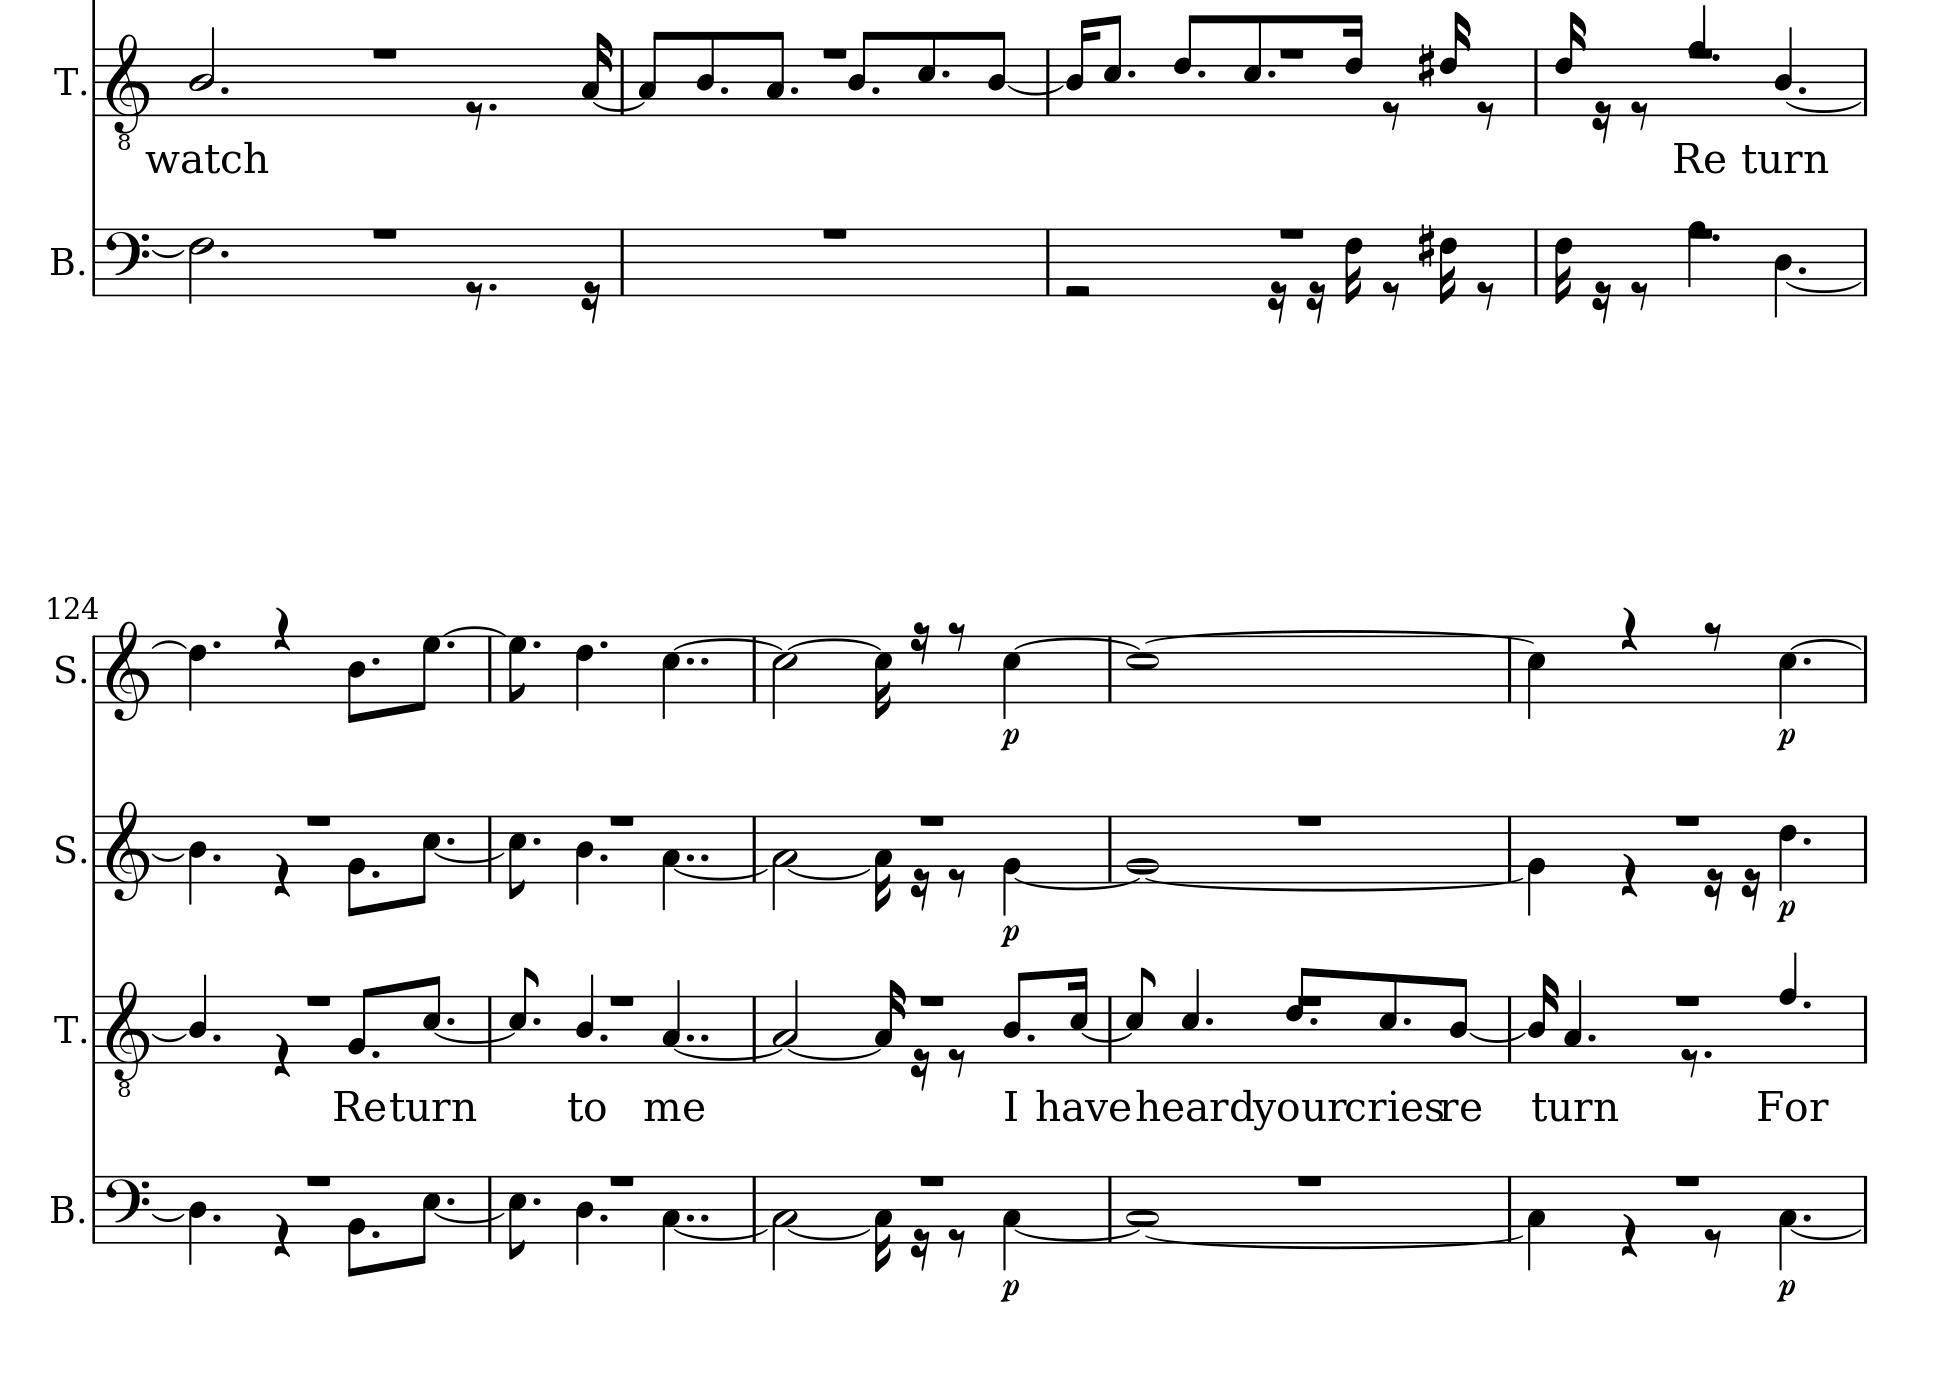1: (46, 595, 60, 621)
16_3: (579, 31, 612, 117), (873, 978, 904, 1063), (870, 1171, 892, 1273), (871, 813, 892, 913)
16_4: (1065, 15, 1099, 117), (1525, 972, 1558, 1065)
16_5: (1065, 964, 1089, 1066), (873, 633, 894, 718)
16_6: (1437, 10, 1471, 118), (1552, 10, 1587, 118), (1341, 10, 1365, 117), (1342, 223, 1365, 303), (1551, 225, 1573, 304), (1437, 226, 1458, 304)
1_2: (1125, 811, 1161, 885)
1_3: (1125, 1171, 1159, 1246)
1_5: (1126, 631, 1161, 705)
2: (61, 595, 79, 619)
2_3: (769, 1171, 798, 1273), (769, 811, 798, 910), (769, 976, 799, 1065)
2_4: (187, 22, 217, 115)
2_5: (769, 633, 799, 720)
2_6: (186, 226, 216, 306)
4: (81, 594, 99, 621)
4_2: (1525, 811, 1546, 916), (1000, 811, 1021, 915)
4_3: (1776, 1168, 1798, 1269), (660, 811, 682, 910), (660, 1171, 682, 1270), (1000, 1171, 1023, 1269), (1527, 1171, 1548, 1270), (658, 976, 681, 1063), (1563, 976, 1584, 1065)
4_4: (184, 811, 208, 907), (184, 1171, 208, 1264), (1771, 22, 1794, 117), (1771, 225, 1794, 319), (571, 813, 594, 907), (573, 972, 595, 1065), (187, 970, 208, 1066), (573, 1171, 594, 1267)
4_5: (1179, 964, 1201, 1065), (1776, 631, 1800, 721), (660, 631, 681, 721), (1525, 631, 1546, 721), (1002, 631, 1023, 720)
4_6: (186, 631, 210, 711), (1776, 811, 1797, 894), (573, 633, 594, 714)
4_8: (1684, 1, 1711, 118), (1686, 219, 1714, 298)
8_2: (343, 814, 367, 918), (346, 984, 376, 1065), (343, 1171, 366, 1278)
8_3: (637, 28, 667, 117), (763, 28, 786, 117)
8_4: (1000, 969, 1032, 1065), (846, 28, 874, 115), (1446, 975, 1470, 1066), (343, 633, 366, 724), (694, 28, 715, 117), (987, 28, 1008, 115)
8_5: (507, 964, 540, 1065), (1125, 964, 1158, 1065), (409, 813, 439, 906), (411, 1171, 439, 1264), (1240, 10, 1263, 117), (1377, 970, 1401, 1065), (418, 973, 442, 1065), (1102, 12, 1122, 117), (915, 28, 937, 115), (505, 813, 526, 900), (505, 1171, 526, 1258)
8_6: (1171, 10, 1203, 117)
8_7: (409, 633, 439, 712), (505, 634, 526, 705)
8_8: (1777, 949, 1798, 1063)
Double_barline: (682, 652, 709, 666), (684, 849, 709, 862), (685, 1029, 708, 1042), (685, 1210, 709, 1222)
Fclef: (103, 1173, 150, 1246), (106, 226, 154, 297)
Gclef: (106, 618, 150, 721), (106, 796, 148, 900)
Lower_Gclef: (105, 31, 151, 150), (106, 976, 148, 1096)
Rests1: (913, 1167, 951, 1191), (604, 808, 640, 829), (817, 42, 850, 64), (1669, 1168, 1707, 1188), (817, 222, 852, 243), (1275, 220, 1309, 241), (1669, 808, 1705, 828), (604, 1168, 640, 1188), (1293, 808, 1326, 829), (606, 990, 639, 1011), (1293, 1168, 1326, 1189), (367, 42, 402, 61), (367, 222, 402, 241), (915, 988, 949, 1008), (301, 808, 334, 828), (1671, 988, 1704, 1008), (301, 991, 336, 1009), (1276, 42, 1308, 61), (915, 810, 948, 828), (301, 1170, 334, 1186)
Rests16: (1264, 277, 1290, 324), (907, 1045, 933, 1090), (907, 1225, 933, 1270), (907, 619, 931, 666), (909, 867, 934, 910), (1590, 97, 1614, 142), (577, 277, 601, 322), (1590, 277, 1614, 322), (1702, 865, 1725, 910), (1740, 865, 1762, 910), (1303, 279, 1326, 322)
Rests2: (1062, 277, 1095, 300)
Rests4: (270, 850, 295, 903), (268, 1210, 292, 1260), (1617, 850, 1639, 901), (1617, 1210, 1638, 1260), (271, 1029, 291, 1078), (1620, 604, 1639, 651), (274, 606, 289, 651)
Rests8: (945, 616, 969, 652), (945, 865, 972, 897), (943, 1224, 970, 1255), (1701, 1225, 1728, 1257), (1677, 1045, 1702, 1078), (462, 97, 486, 132), (1701, 616, 1725, 651), (945, 1045, 970, 1077), (1629, 97, 1653, 130), (1380, 97, 1404, 129), (462, 277, 484, 310), (1476, 276, 1497, 310), (1474, 97, 1497, 129), (1380, 277, 1402, 309), (1629, 277, 1650, 310)
Sharp: (1417, 40, 1437, 88), (1416, 220, 1435, 268)
Single_barline: (1038, 228, 1057, 294), (1857, 226, 1875, 295), (1857, 1174, 1875, 1243), (1500, 637, 1519, 700), (745, 814, 763, 882), (745, 1174, 763, 1242), (1039, 46, 1057, 112), (613, 228, 631, 294), (1527, 228, 1545, 294), (745, 996, 763, 1062), (1101, 1174, 1119, 1240), (1857, 46, 1873, 115), (87, 48, 103, 117), (87, 634, 103, 703), (87, 814, 103, 883), (87, 994, 103, 1063), (1501, 1174, 1518, 1243), (481, 637, 499, 700), (747, 634, 763, 702), (1102, 634, 1119, 702), (1858, 634, 1875, 702), (1857, 814, 1873, 882), (613, 48, 630, 114), (1528, 48, 1545, 114), (1102, 814, 1119, 880), (1501, 814, 1518, 880), (1857, 996, 1873, 1062), (481, 816, 498, 880), (1102, 996, 1119, 1060), (1501, 996, 1518, 1060), (481, 1176, 498, 1240), (87, 228, 102, 295), (85, 1176, 100, 1243), (483, 996, 496, 1060)
Slur: (1146, 1233, 1527, 1249), (1144, 877, 1527, 892), (1146, 630, 1533, 643), (1014, 636, 1138, 649), (1014, 876, 1138, 889), (1014, 1228, 1138, 1242), (670, 1048, 786, 1060), (675, 637, 783, 649), (787, 637, 883, 651), (669, 1228, 772, 1240), (670, 868, 769, 880), (784, 867, 871, 880), (786, 1047, 883, 1059), (784, 1228, 871, 1240), (432, 1030, 514, 1042), (1782, 280, 1861, 292), (1785, 100, 1863, 112), (430, 850, 507, 862), (1786, 1228, 1863, 1240), (1789, 637, 1863, 649), (432, 1212, 507, 1222), (588, 97, 651, 109), (1468, 1030, 1528, 1042), (1005, 84, 1066, 94), (1080, 1030, 1134, 1041), (150, 637, 187, 652), (445, 625, 505, 634), (150, 1032, 189, 1042), (148, 1212, 187, 1222), (148, 852, 186, 862), (150, 247, 186, 258)
dot: (1800, 832, 1815, 847), (1399, 1012, 1414, 1027), (217, 81, 231, 96), (217, 246, 231, 261), (208, 637, 223, 651), (1801, 997, 1815, 1012), (1203, 1012, 1216, 1027), (208, 1030, 223, 1044), (595, 1210, 610, 1224), (1710, 229, 1723, 243), (369, 654, 382, 667), (1800, 654, 1813, 667), (208, 850, 222, 864), (529, 1014, 543, 1027), (1701, 1047, 1714, 1060), (595, 637, 610, 649), (595, 850, 610, 862), (1266, 66, 1278, 79), (939, 67, 952, 79), (1125, 67, 1138, 79), (718, 82, 730, 96), (1797, 262, 1809, 276), (529, 637, 543, 649), (444, 637, 456, 651), (529, 834, 541, 847), (369, 865, 381, 879), (1308, 1014, 1320, 1027), (597, 1030, 610, 1042), (1585, 1030, 1599, 1042), (1024, 1030, 1038, 1042), (1800, 1210, 1813, 1222), (210, 1210, 222, 1224), (1195, 67, 1207, 79), (1797, 82, 1809, 94), (787, 84, 799, 96), (868, 84, 880, 96), (529, 1195, 541, 1207), (370, 1227, 381, 1240), (444, 834, 454, 846), (444, 1014, 456, 1024), (445, 1194, 456, 1206), (370, 1048, 381, 1057)
p: (1774, 1275, 1798, 1306), (999, 1276, 1023, 1306), (1774, 723, 1798, 751), (999, 723, 1021, 751), (999, 922, 1021, 949), (1776, 895, 1797, 924)
